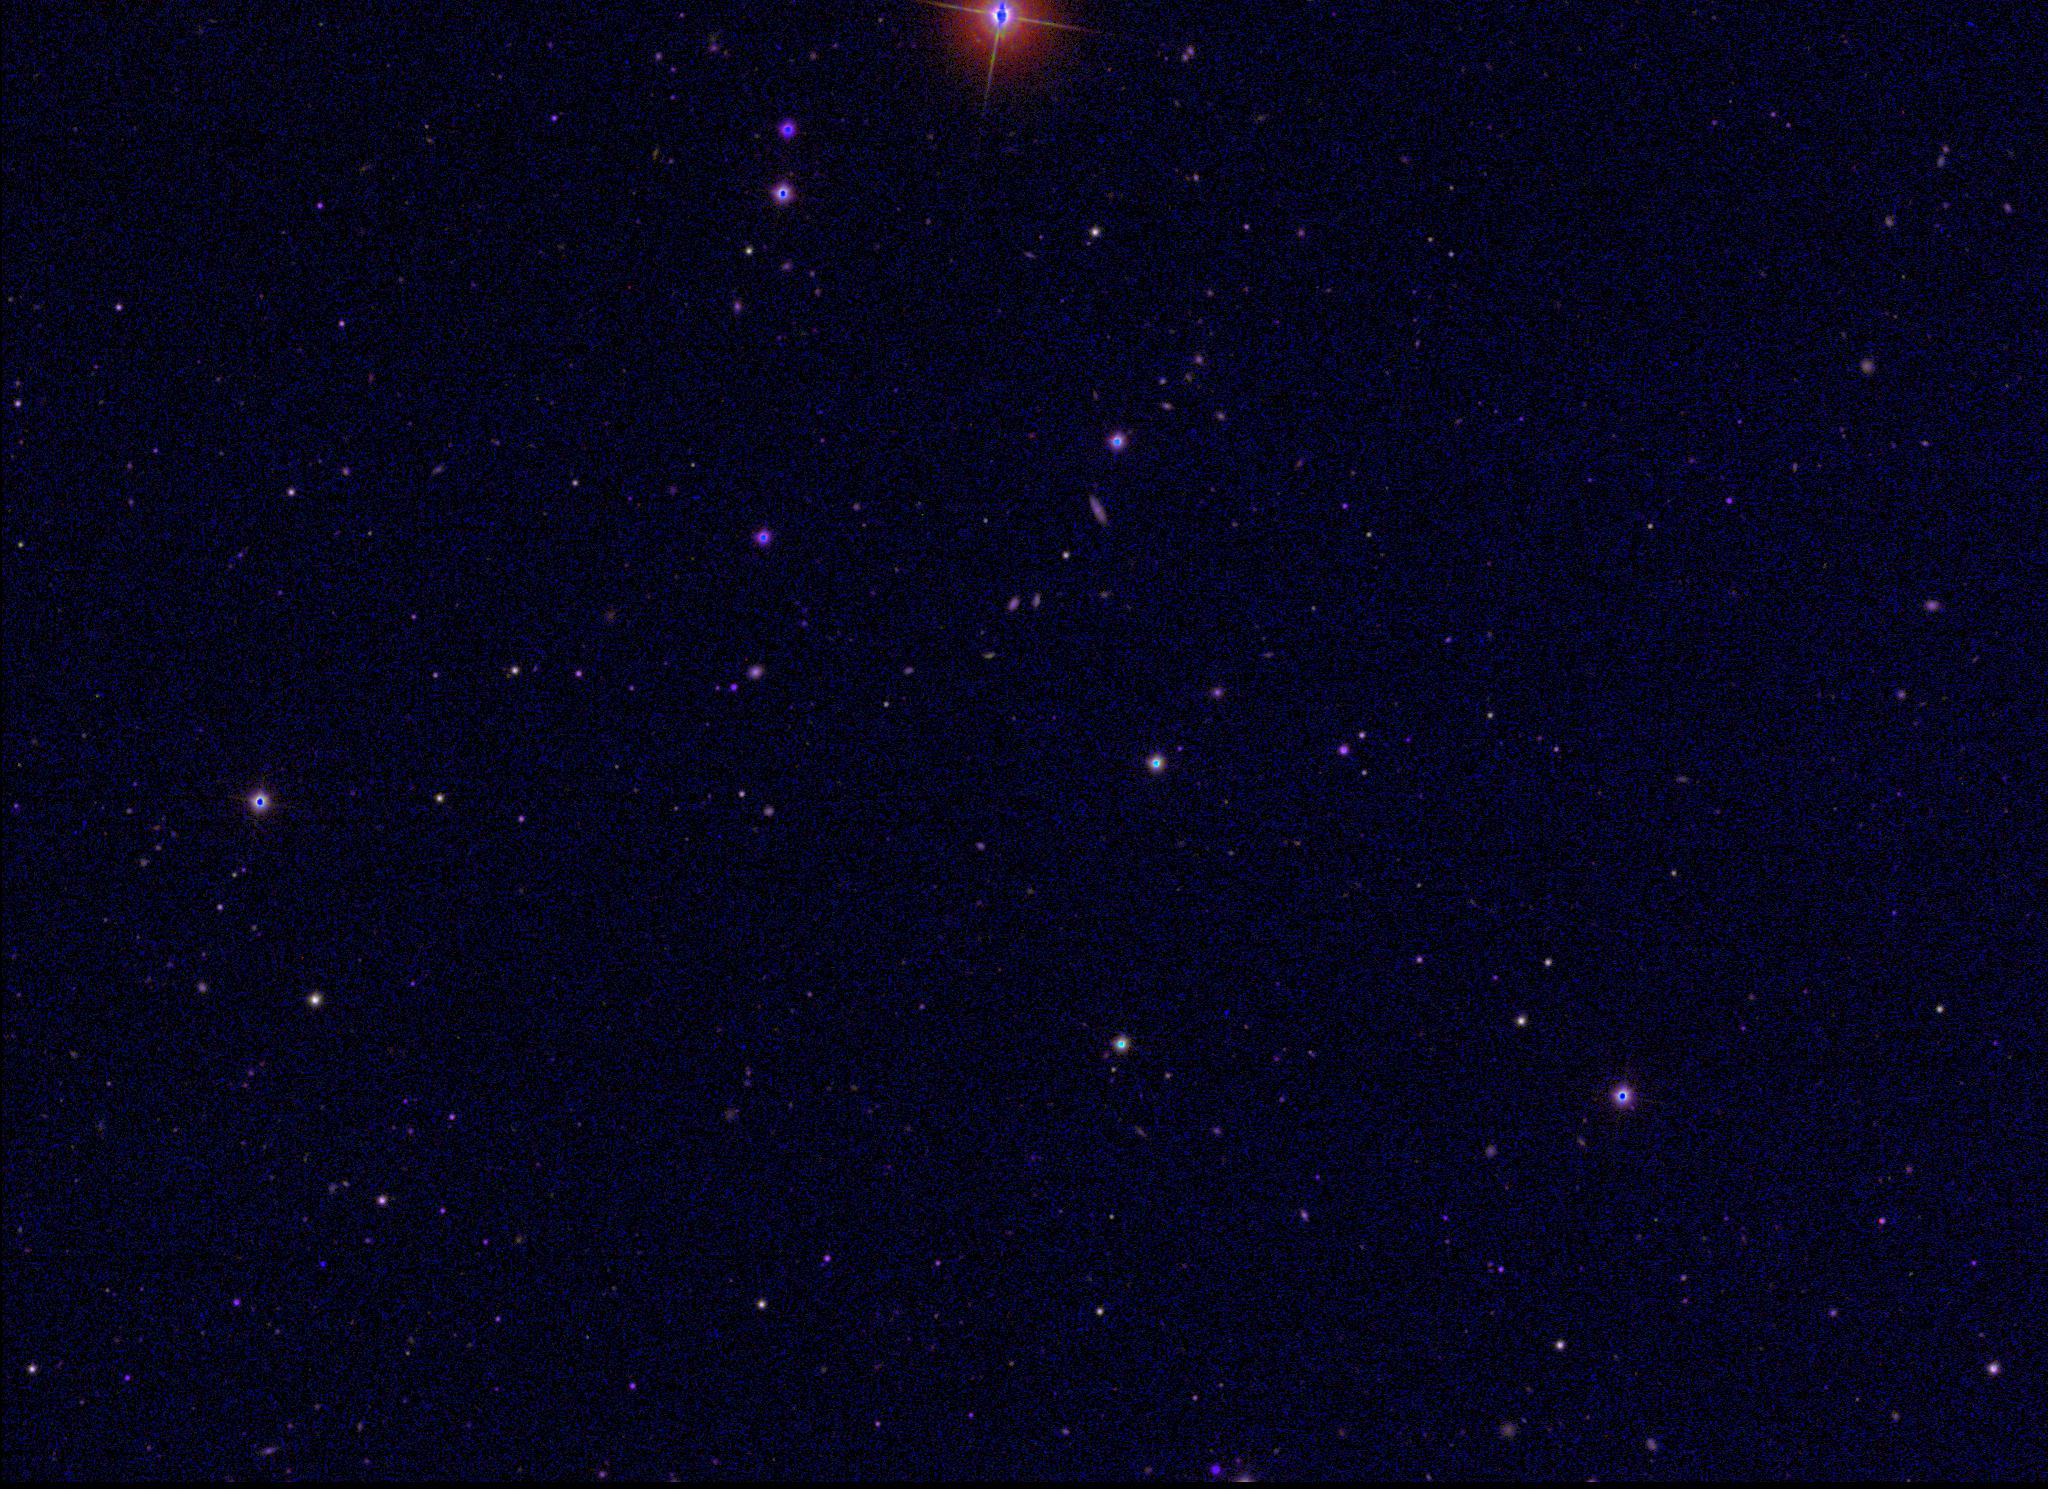L: (315, 1258, 329, 1273)
